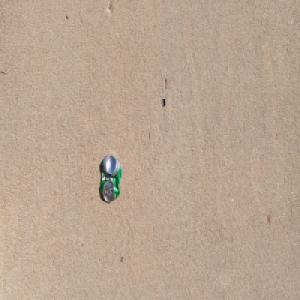SodaCan: (99, 153, 122, 203)
